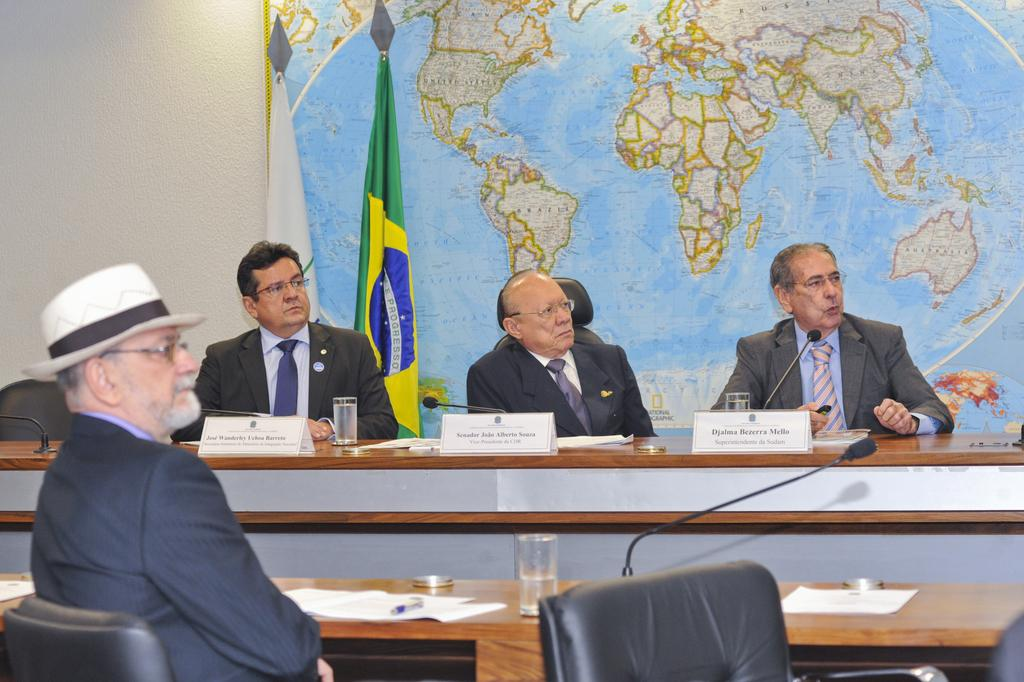Hat: (22, 262, 208, 383)
